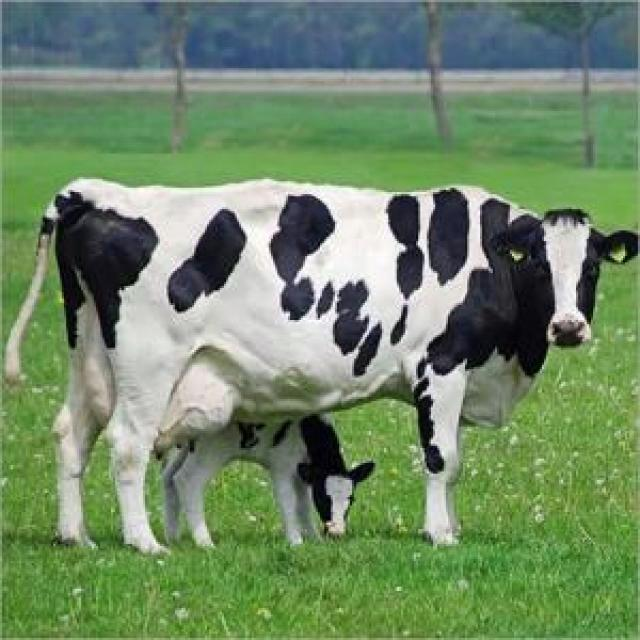cow: (8, 179, 639, 553), (165, 414, 375, 546)
